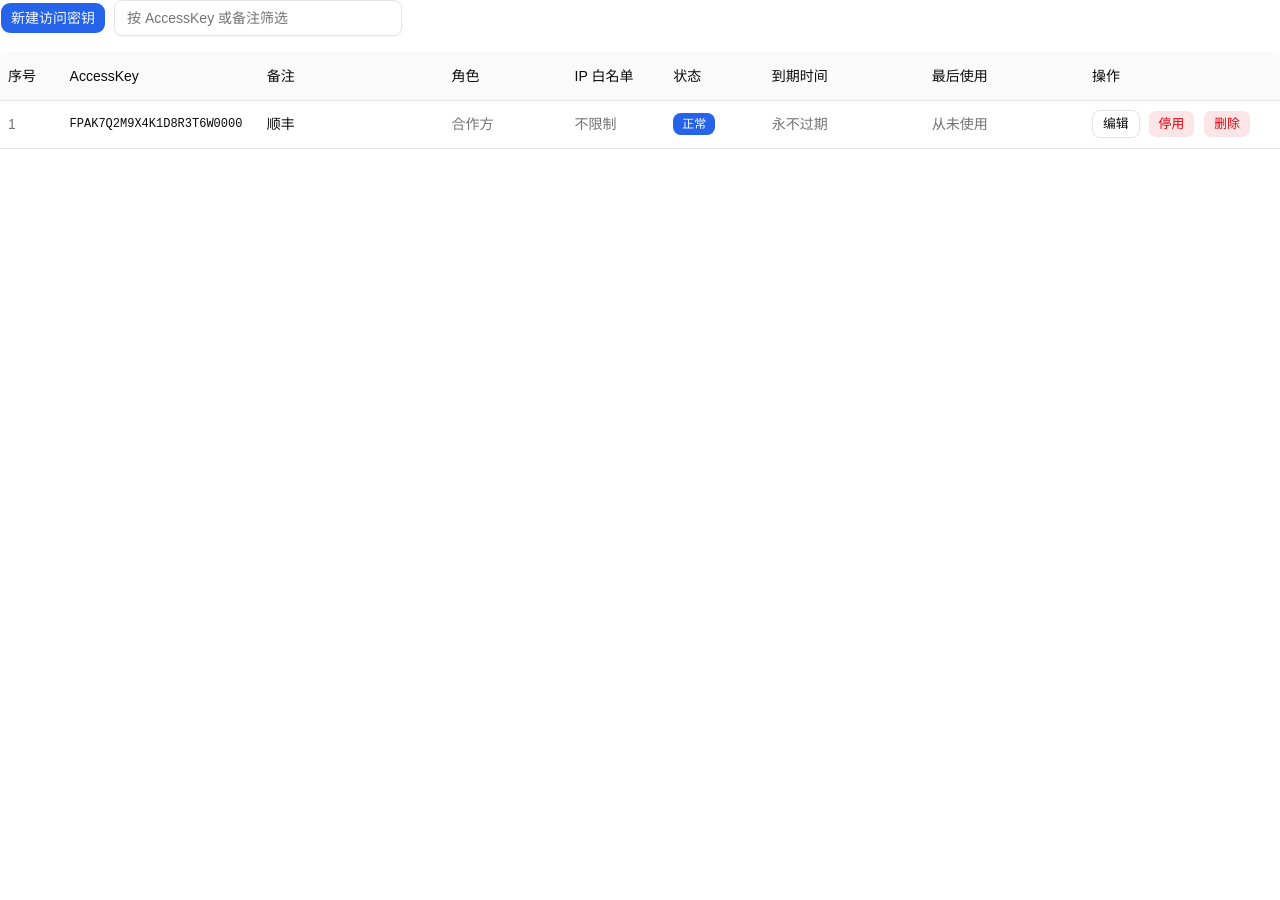
删除确认框显示最后使用时间
Expected: the text "顺丰" is shown, [259,100,444,148]
Click the button "删除" at (1227, 124), box [1203,110,1251,138]
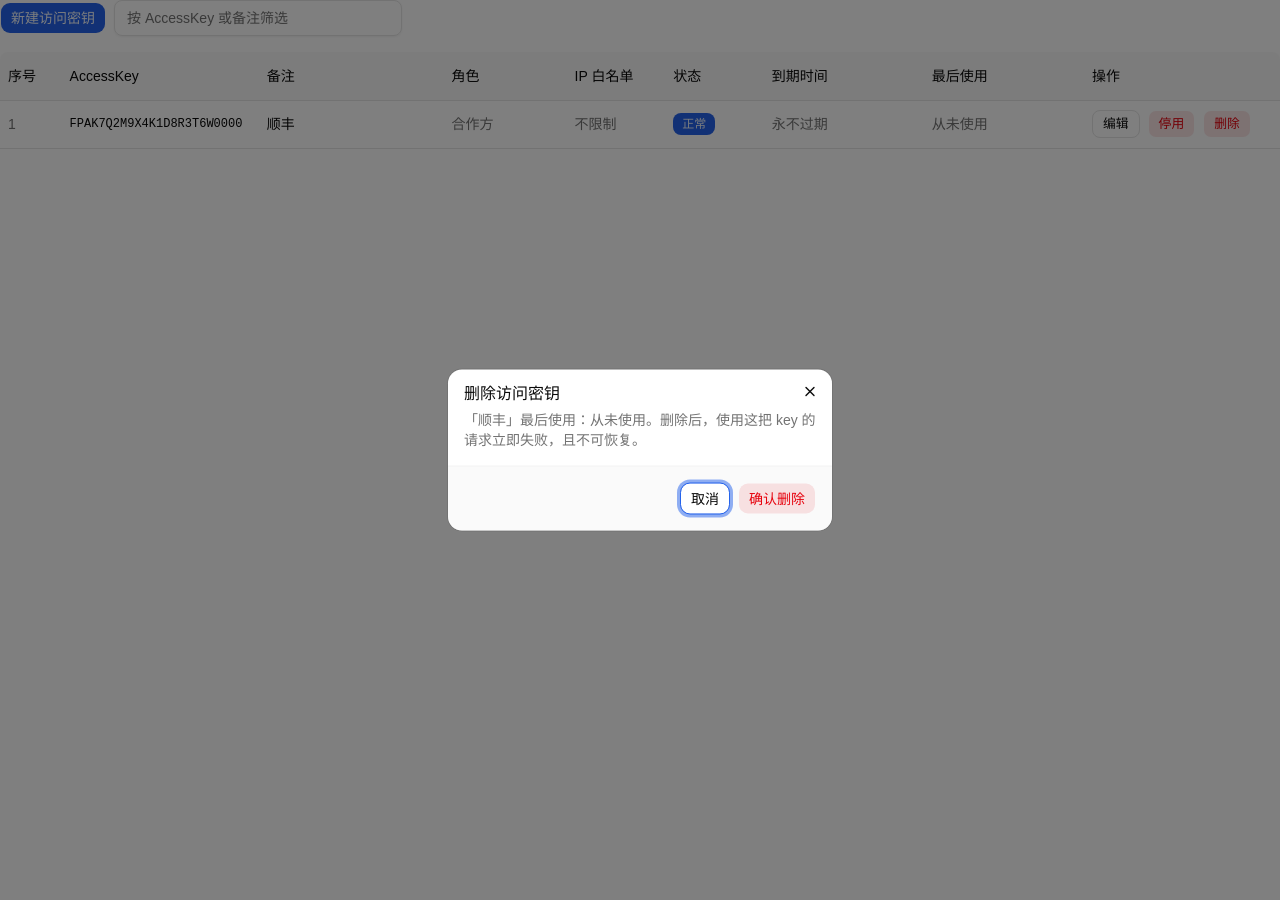
Expected: the text "「顺丰」最后使用：从未使用。删除后，使用这把 key 的请求立即失败，且不可恢复。" is shown, [464,410,816,450]
